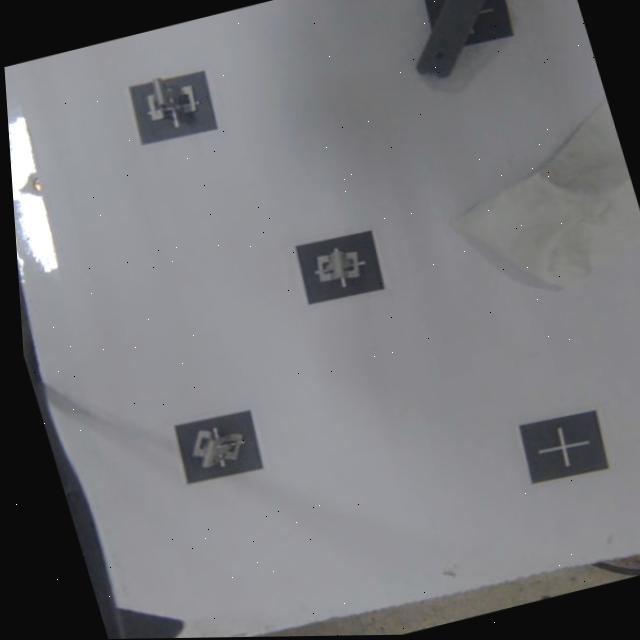pick1: (123, 68, 223, 150)
pick2: (170, 408, 266, 485)
pick3: (292, 229, 390, 305)
